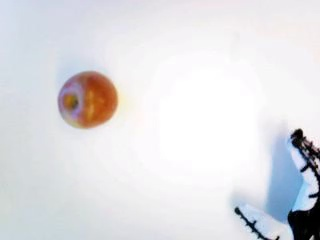apple: (55, 70, 118, 130)
hand: (233, 128, 320, 240)
